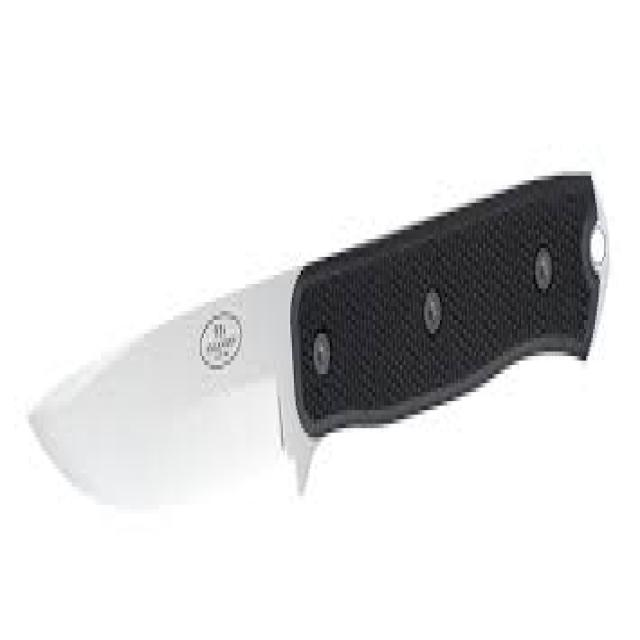knife: (28, 158, 611, 512)
